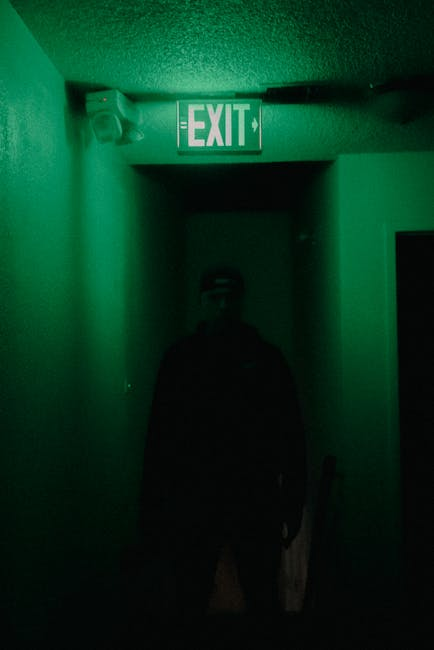emergency_exit: (175, 97, 263, 154)
